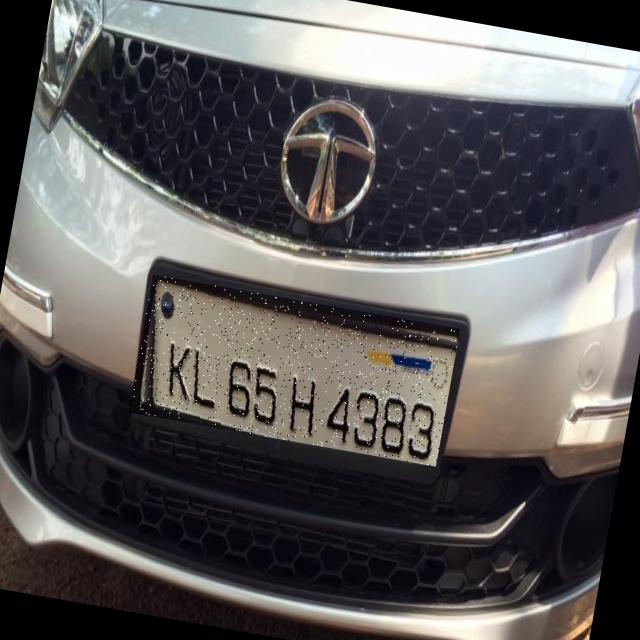Plate: (129, 275, 461, 467)
